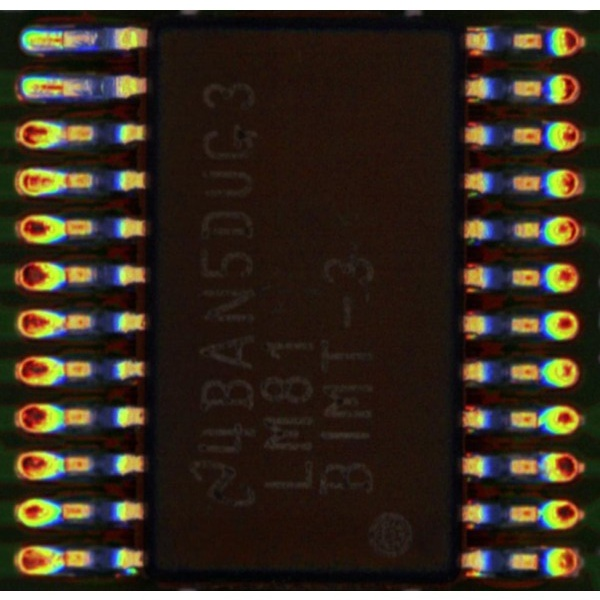Bad_podu: (50, 31, 70, 46), (50, 80, 73, 93)
